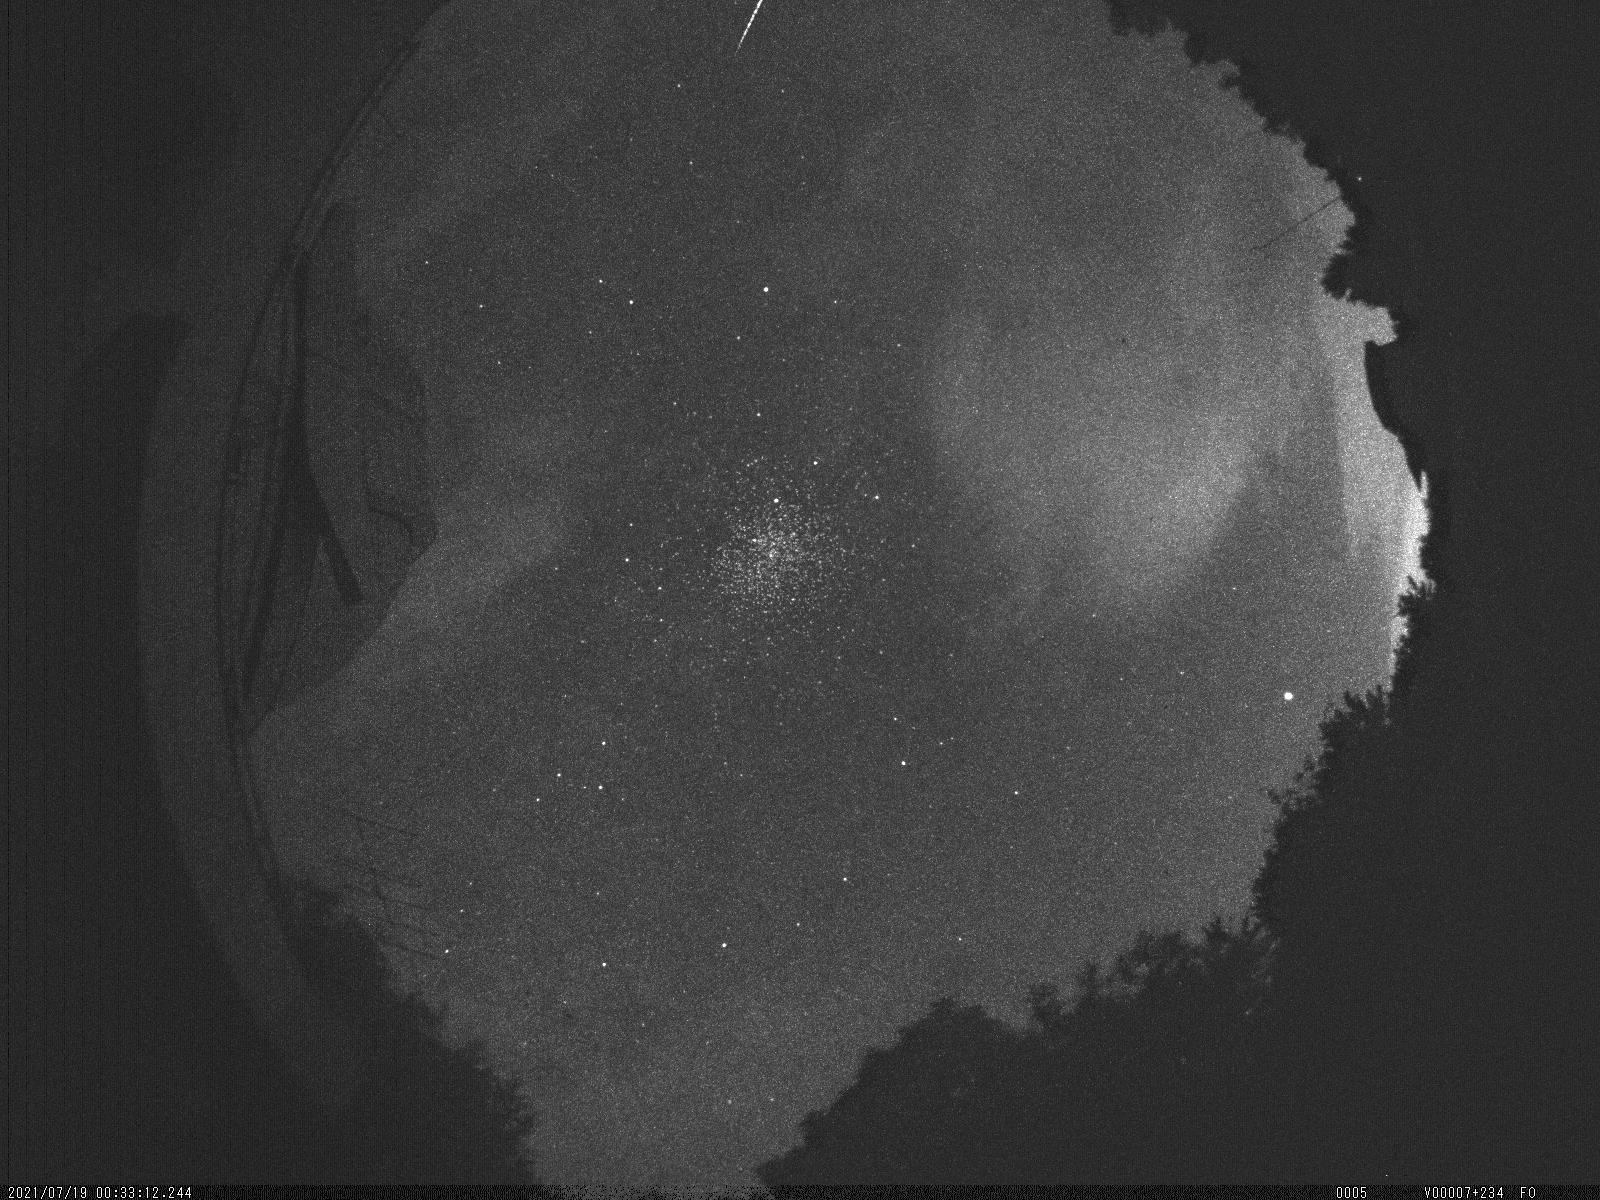Meteor: (731, 0, 771, 55)
